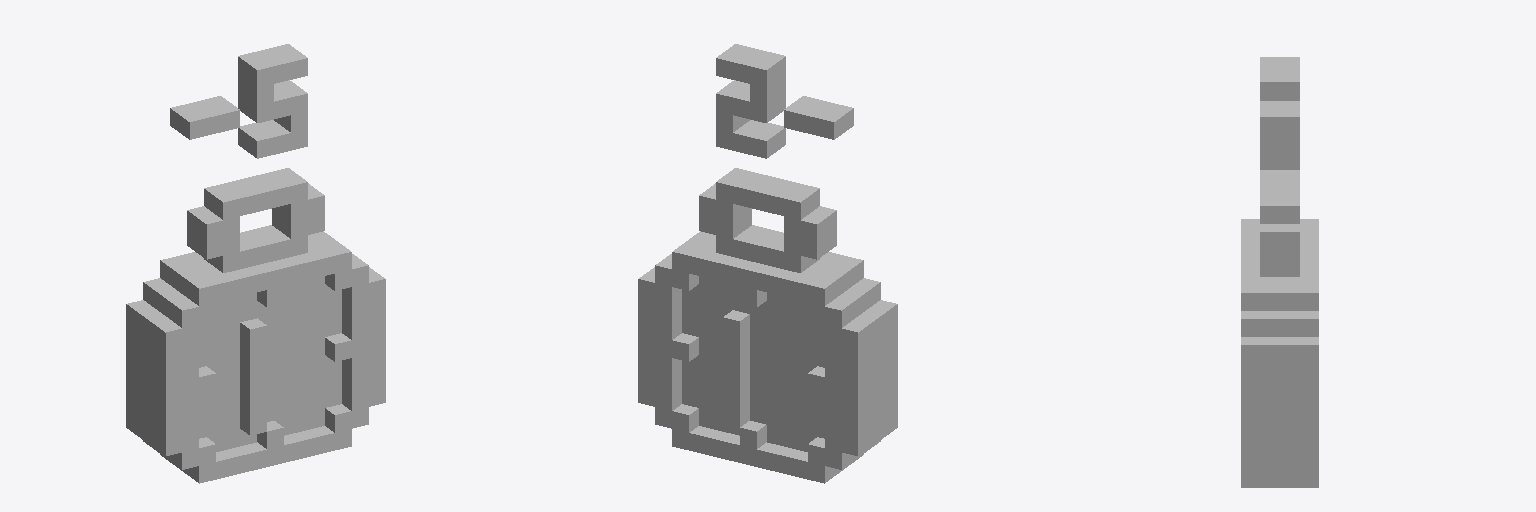
Rendered from Stopwatch - 2.obj.
3 views of the same model, side by side, from view 1: azimuth 30°, elevation 25°; view 2: azimuth 150°, elevation 25°; view 3: azimuth 270°, elevation 25° (orthographic).
Visible parts, largest first — view 1: object 1; view 2: object 1; view 3: object 1.
Part boxes in pixels (x1,y1,x2,y2): object 1: (126, 44, 385, 483); object 1: (638, 44, 897, 483); object 1: (1241, 57, 1318, 487).
Size of the model in its own units: 1.3 by 2.2 by 0.4.